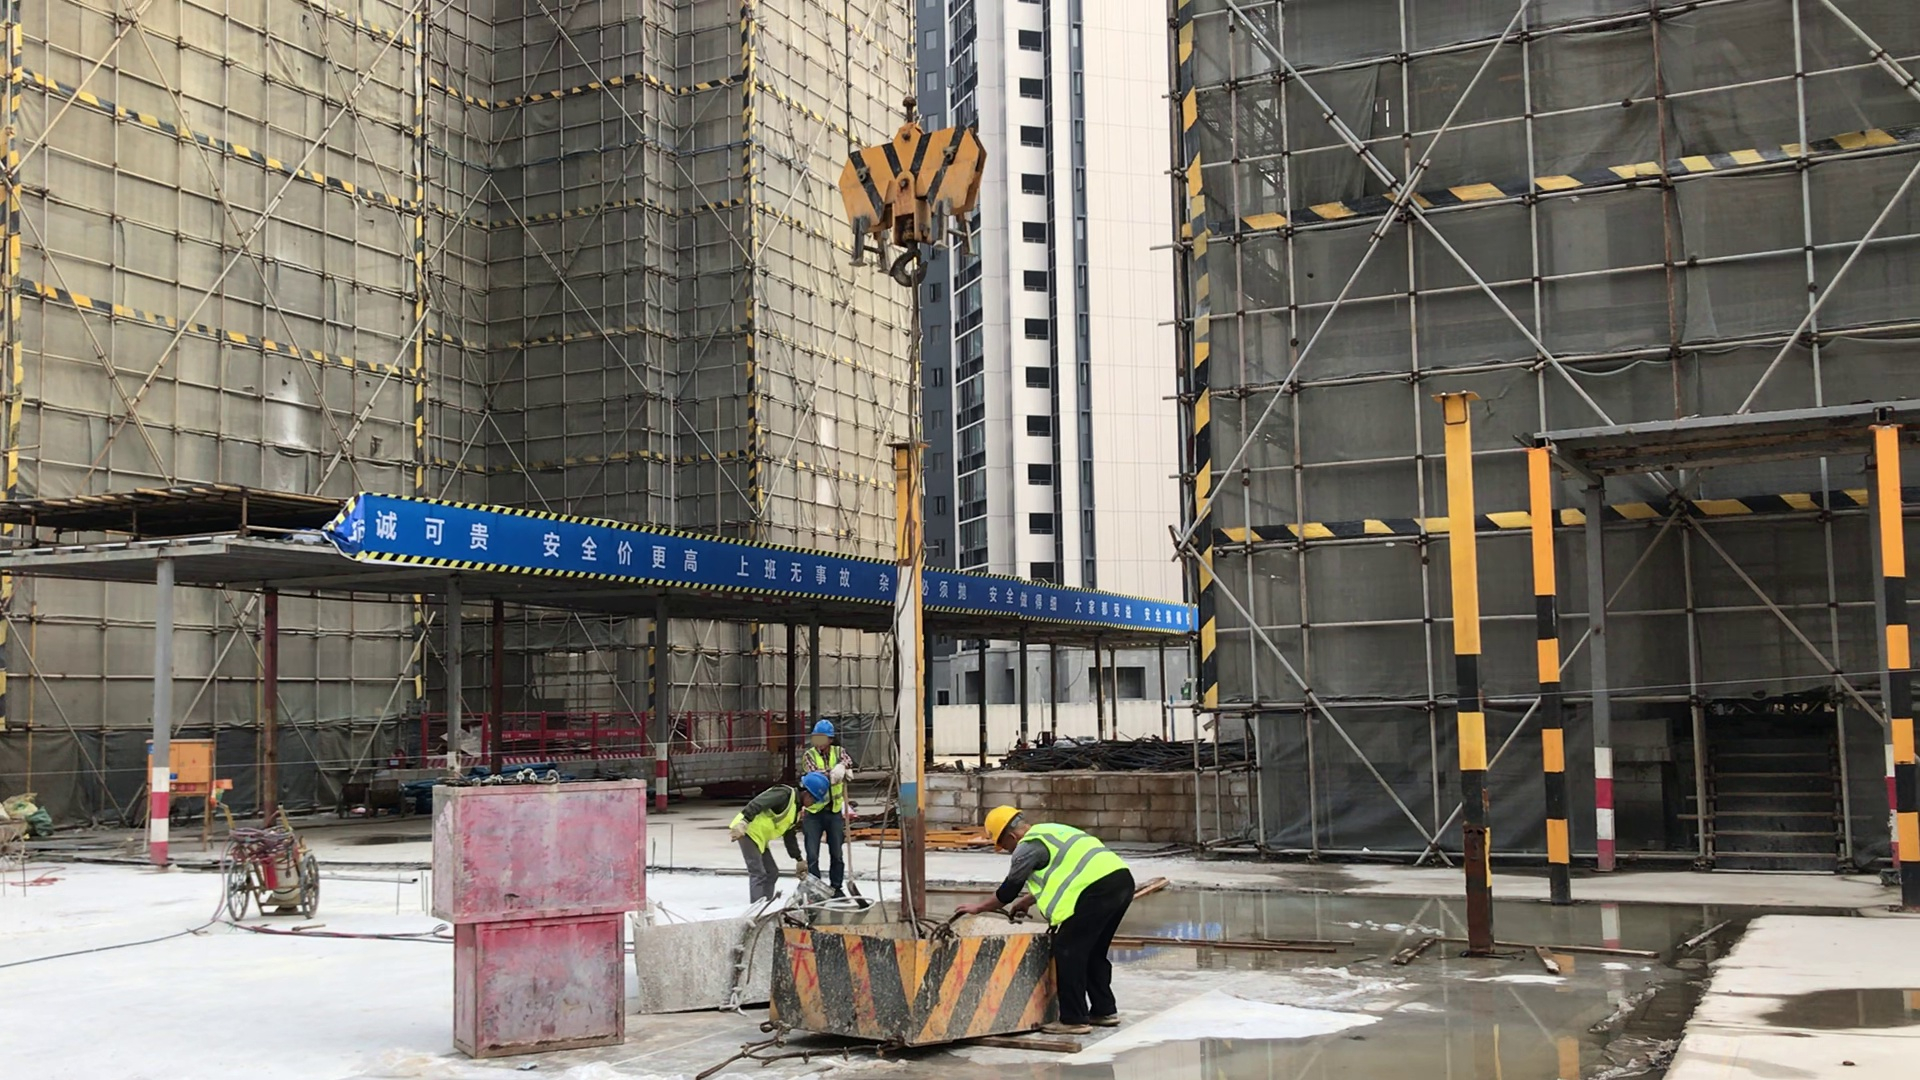ebox: (169, 735, 218, 856)
fence: (369, 501, 887, 602), (930, 574, 1192, 635), (506, 708, 643, 760), (679, 707, 778, 753)
handcart: (217, 796, 321, 918), (1, 817, 35, 865)
helmet: (980, 804, 1025, 854), (798, 774, 828, 799), (808, 718, 835, 738)
hook: (841, 95, 988, 286)
hopper: (747, 904, 1054, 1064), (622, 901, 766, 1017)
person: (949, 798, 1141, 1038), (738, 771, 829, 905), (797, 719, 859, 900)
vest: (1012, 821, 1132, 928), (739, 784, 800, 856), (800, 746, 847, 817)
